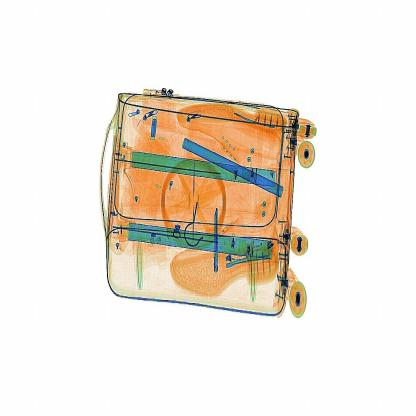pliers: (212, 208, 222, 277)
